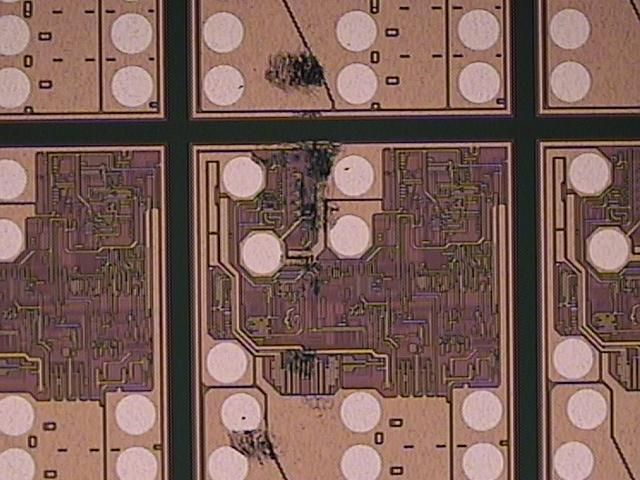SCRATCH: (215, 38, 343, 480)
